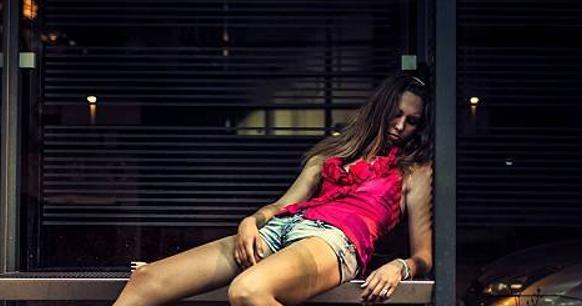Drunk: (386, 91, 421, 142)
